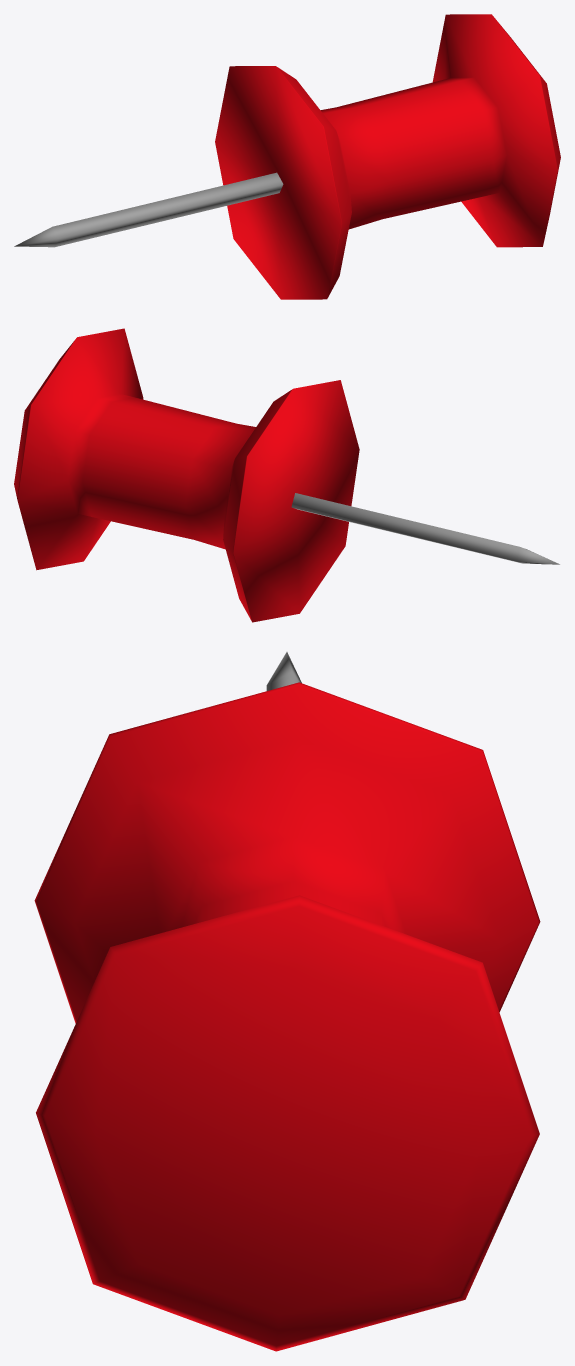
Rendered from pin.glb.
The picture shows the model from 3 angles, top to bottom: view 1: azimuth 30°, elevation 25°; view 2: azimuth 150°, elevation 25°; view 3: azimuth 270°, elevation 25°; orthographic projection. The views are drawn at different scales.
Visible parts, largest first — view 1: Cube.001, Cube.002; view 2: Cube.001, Cube.002; view 3: Cube.001.
Part boxes in pixels (x1,y1,x2,y2): Cube.001: (215,14,560,299); Cube.002: (14,172,283,247); Cube.001: (14,328,359,622); Cube.002: (291,493,559,564); Cube.001: (34,682,540,1351).
Size of the model in its own units: 0.0837 by 0.0368 by 0.0368.
